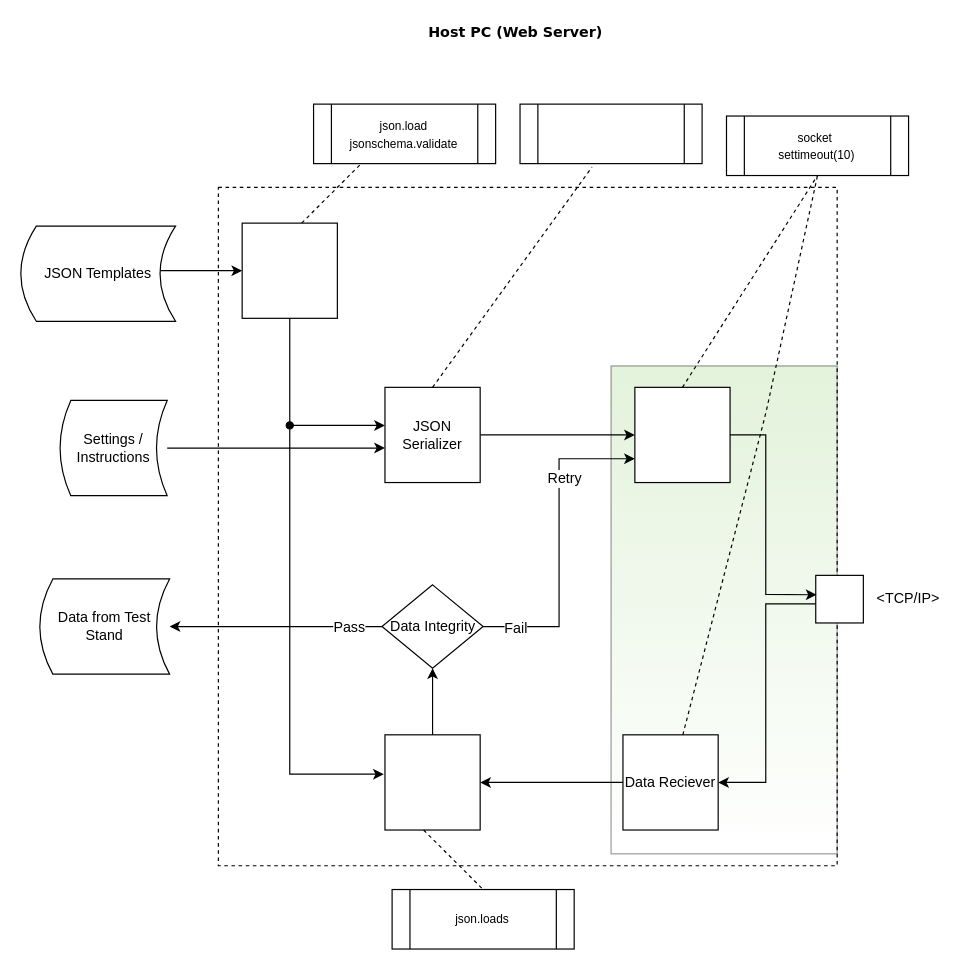
The diagram is 960 pixels wide and 970 high, and some of its shapes have lost their labels. The shapes that lost their labels are listed below. From the top down, each one's centre as x and y in pixels, then its label:
At (x=610, y=133): "setVaribles json.dumps".
At (x=289, y=270): "JSON Template Import and Validate".
At (x=682, y=434): "Data Transmitter".
At (x=432, y=782): "JSON De-Serializer".
